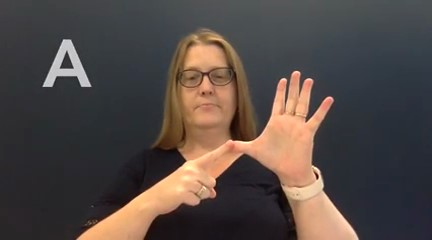A: (143, 68, 338, 217)
